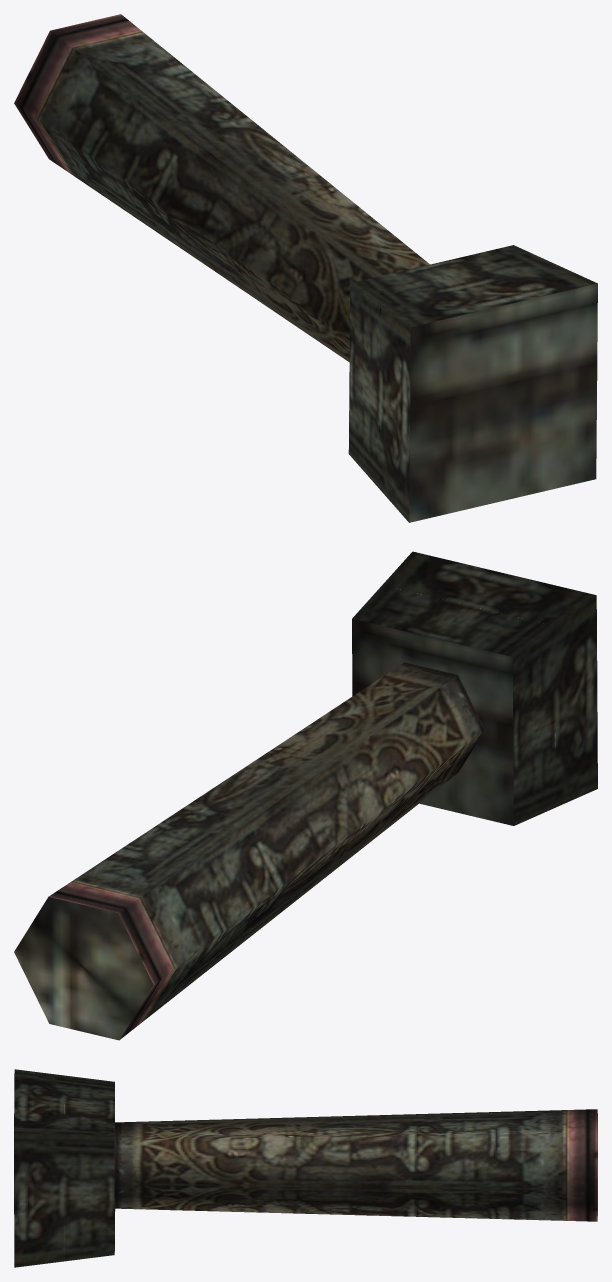
Rendered from column_08.obj.
The picture shows the model from 3 angles, top to bottom: view 1: azimuth 30°, elevation 25°; view 2: azimuth 150°, elevation 25°; view 3: azimuth 270°, elevation 25°; orthographic projection. The views are drawn at different scales.
Parts seen in each view (by area): view 1: (null); view 2: (null); view 3: (null).
Boxes of the visible parts, x1,y1,x2,y2 form: (null): (14,14,597,522); (null): (14,551,597,1040); (null): (14,1069,597,1267).
Size of the model in its own units: 0.6854 by 0.6854 by 2.67.
